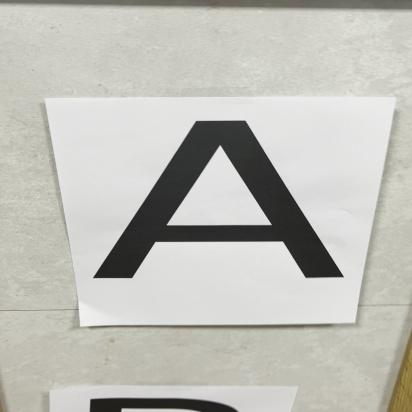seat: (91, 107, 352, 313)
